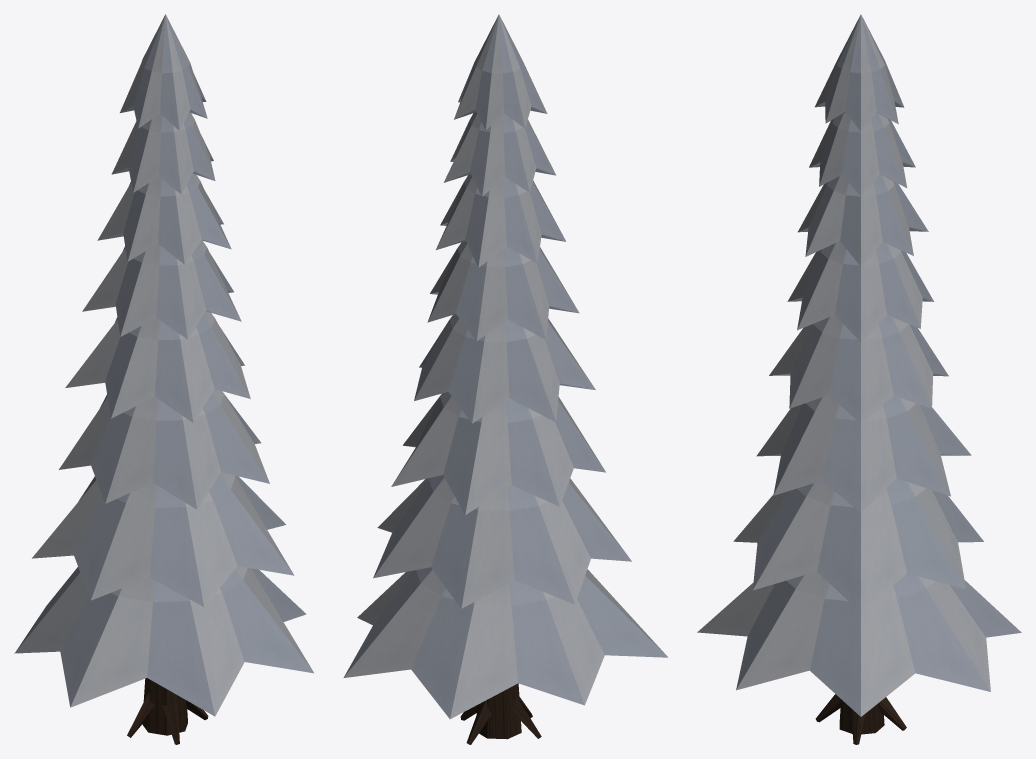
Rendered from tree_pine_01_snow.glb.
3 views of the same model, side by side, from view 1: azimuth 30°, elevation 25°; view 2: azimuth 150°, elevation 25°; view 3: azimuth 270°, elevation 25° (orthographic).
Parts seen in each view (by area): view 1: tree_pine_01_snow; view 2: tree_pine_01_snow; view 3: tree_pine_01_snow.
Part boxes in pixels (x1=…): tree_pine_01_snow: x1=14, y1=14, x2=313, y2=744; tree_pine_01_snow: x1=343, y1=14, x2=667, y2=744; tree_pine_01_snow: x1=697, y1=14, x2=1021, y2=744.
Size of the model in its own units: 3.34 by 8.33 by 3.44.
3 materials, 3 textured.
